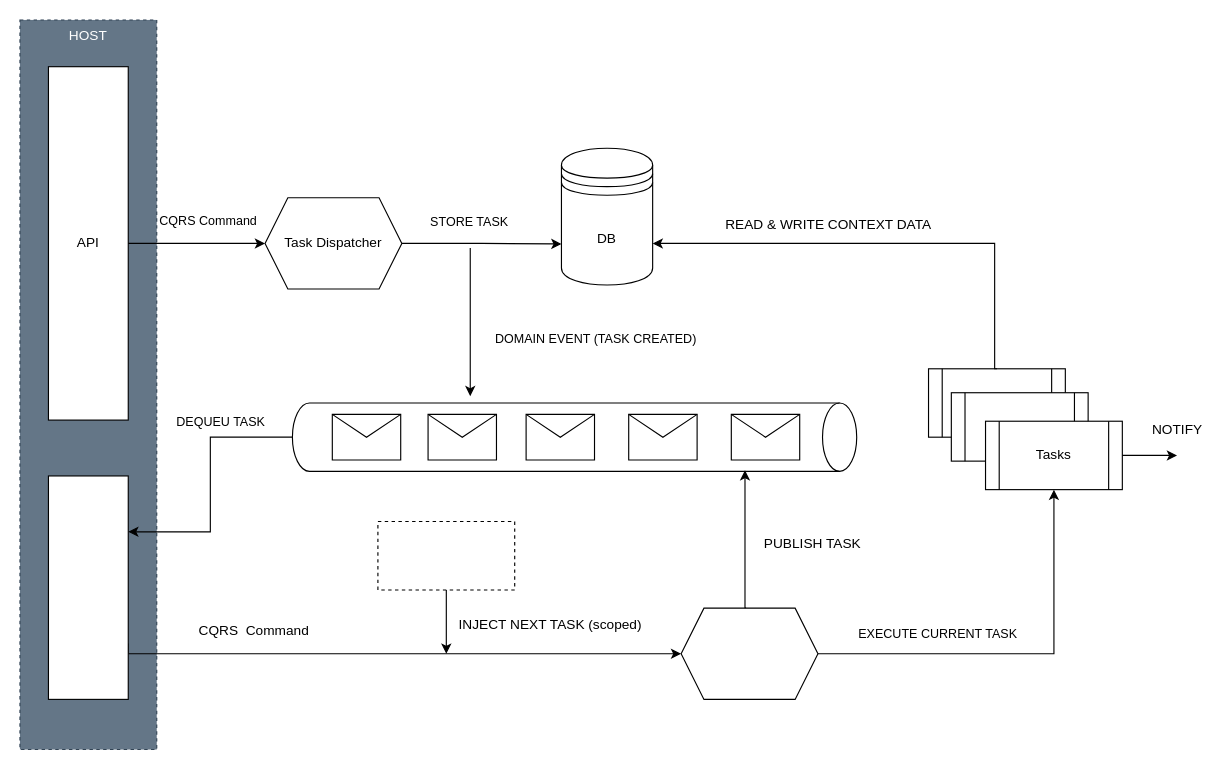
Image size: 1222x770. Some labels were removed from this diagram. The shapes that lost their labels are listed below. From the top down, each one's box as (x1, y1, x2, y2) in pixels, then its label:
(377, 520, 515, 590): TASK DEFINITION Interceptor
(47, 475, 128, 699): JOB
(680, 607, 818, 699): Task Executer
